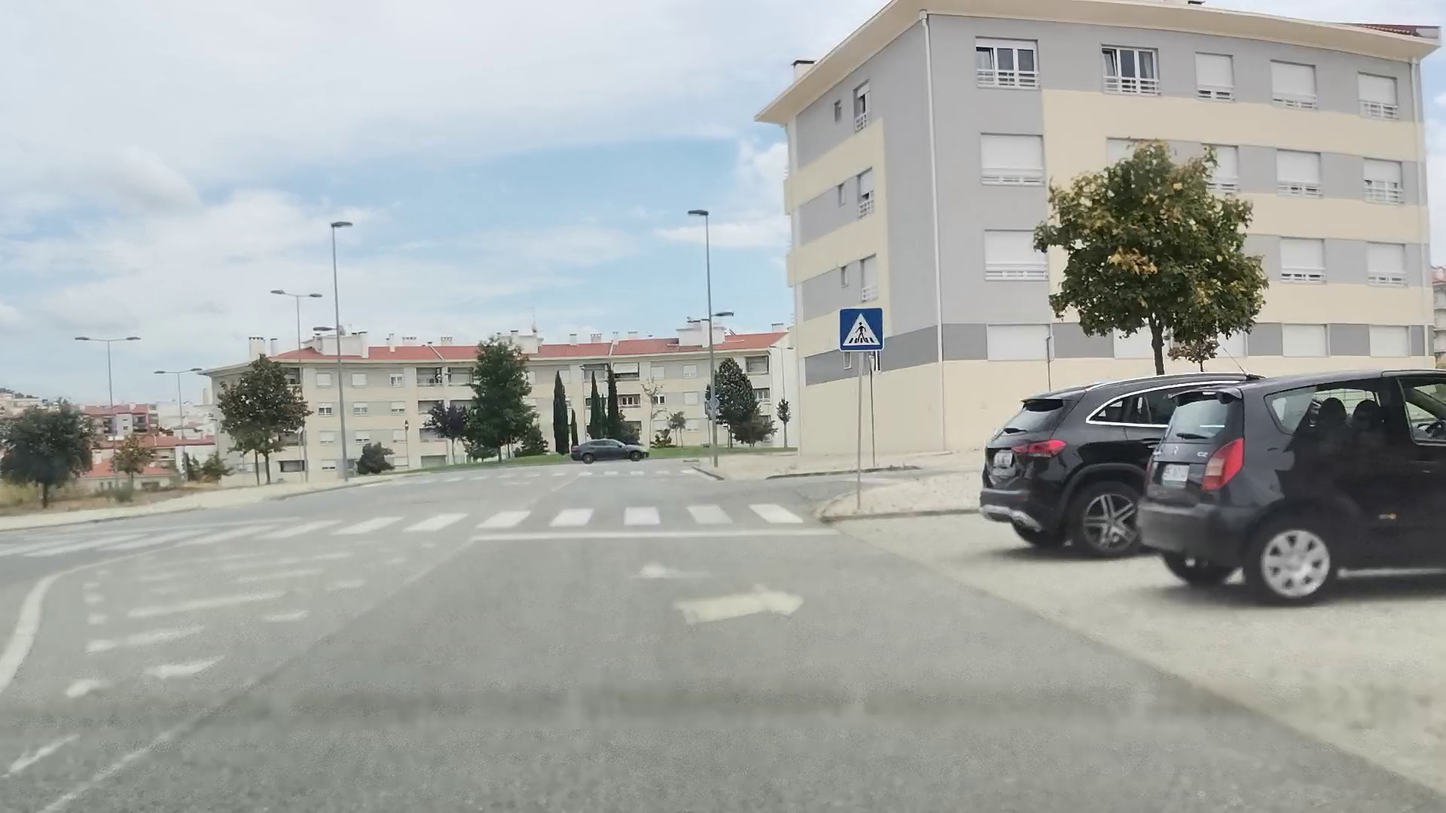Stairs: (0, 503, 812, 556)
